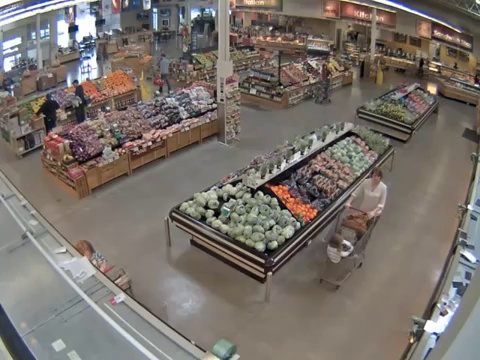face: (372, 172, 381, 184)
